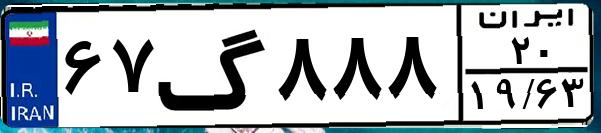0: (537, 27, 568, 80)
1: (470, 70, 495, 125)
2: (508, 27, 537, 80)
3: (560, 70, 590, 125)
6: (57, 26, 110, 100), (535, 70, 560, 125)
7: (110, 28, 156, 98)
8: (270, 28, 330, 110), (385, 28, 445, 110), (330, 28, 385, 110)
9: (495, 70, 520, 125)
گ: (156, 12, 270, 120)
